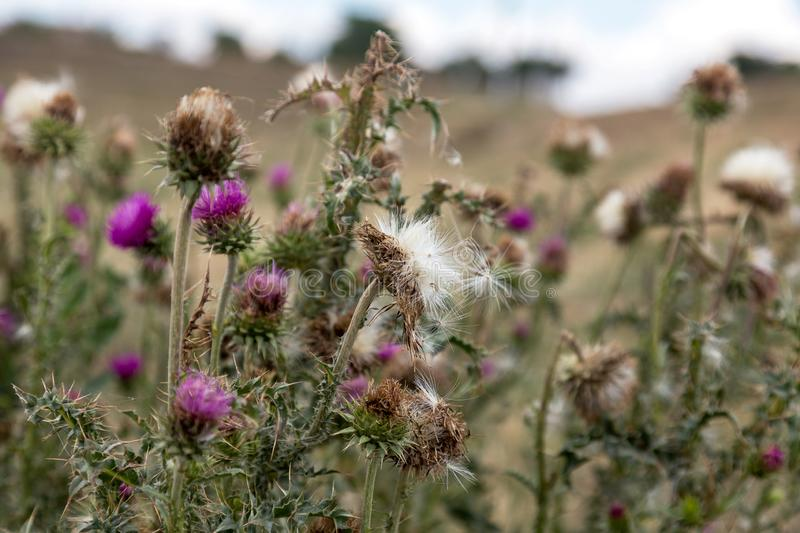thistle: (149, 374, 231, 471), (98, 193, 179, 273), (187, 185, 262, 255)
